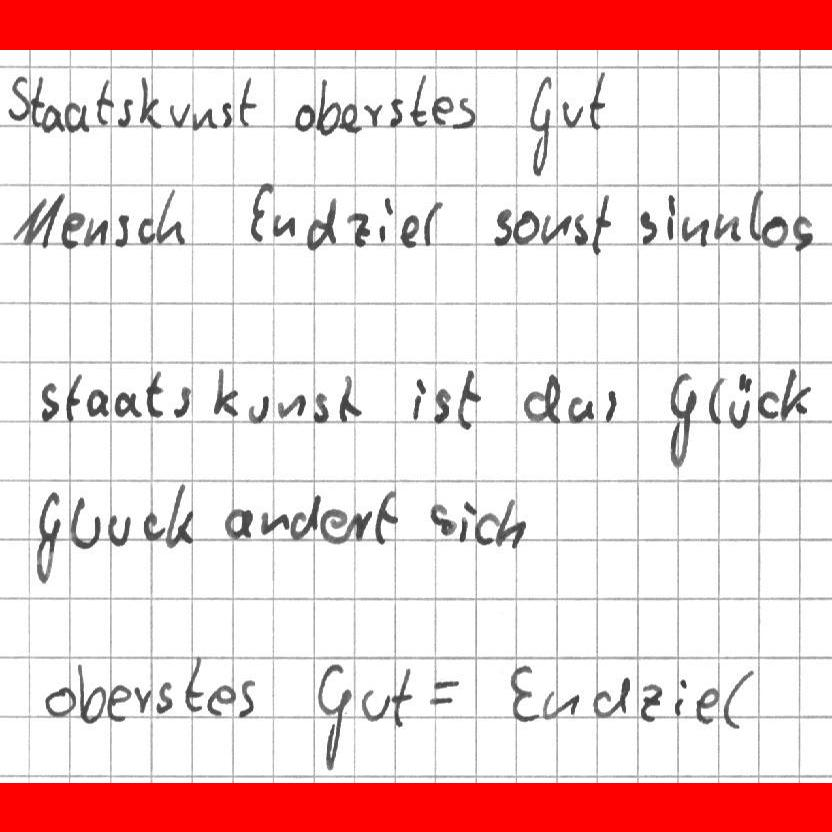Char: (317, 659, 356, 776), (665, 371, 699, 468), (9, 189, 64, 248), (526, 71, 555, 175), (34, 490, 63, 585), (520, 370, 564, 428), (721, 666, 757, 731), (588, 672, 635, 721), (387, 662, 420, 731), (505, 661, 541, 724), (163, 484, 196, 552), (155, 186, 191, 247), (493, 491, 530, 549), (74, 664, 107, 725), (303, 194, 339, 249), (373, 486, 404, 549), (66, 492, 100, 549), (247, 180, 276, 242), (779, 366, 810, 422), (455, 368, 482, 431), (286, 489, 318, 540), (181, 654, 205, 717), (316, 77, 342, 135), (727, 371, 752, 431), (212, 364, 240, 417), (539, 684, 579, 721), (589, 193, 612, 257), (359, 685, 394, 727), (4, 73, 32, 125), (136, 74, 162, 130), (418, 193, 445, 246), (337, 372, 364, 424), (319, 508, 354, 548), (222, 503, 256, 543), (343, 208, 375, 249), (236, 74, 260, 128), (346, 503, 375, 547), (538, 211, 573, 247), (639, 680, 666, 726), (588, 70, 608, 131), (428, 499, 459, 538), (408, 72, 429, 129), (105, 509, 134, 550), (43, 682, 76, 718), (204, 681, 236, 718), (425, 676, 464, 706), (511, 206, 540, 246), (692, 686, 721, 726), (712, 209, 745, 244), (106, 680, 132, 724), (232, 676, 258, 720), (152, 676, 181, 715), (680, 211, 710, 247), (455, 497, 477, 546), (144, 369, 165, 419), (473, 508, 499, 548), (492, 204, 517, 245), (259, 504, 291, 536), (707, 374, 727, 425), (38, 379, 61, 423), (61, 208, 85, 250), (113, 388, 143, 421), (761, 213, 789, 248), (746, 188, 763, 245), (63, 99, 90, 134), (81, 214, 107, 250), (565, 393, 596, 423), (789, 214, 814, 251), (94, 79, 114, 125), (453, 92, 476, 132), (410, 374, 429, 422), (377, 191, 395, 241), (245, 391, 270, 426), (170, 384, 193, 422), (662, 189, 678, 243), (670, 676, 690, 719), (601, 387, 622, 427), (84, 387, 111, 418), (276, 393, 307, 420), (757, 386, 780, 422), (636, 206, 657, 245), (432, 386, 454, 423), (31, 71, 45, 129), (189, 105, 220, 131), (560, 96, 585, 128), (65, 372, 81, 422), (111, 211, 132, 249), (39, 102, 63, 135), (398, 211, 420, 247), (143, 509, 167, 542), (431, 94, 454, 127), (570, 209, 589, 247), (339, 100, 360, 134), (133, 681, 154, 715), (168, 100, 193, 128), (270, 212, 298, 237), (311, 390, 332, 423), (293, 99, 313, 131), (135, 214, 156, 244), (116, 94, 134, 128), (389, 95, 407, 129), (364, 101, 386, 128), (220, 100, 234, 128)
